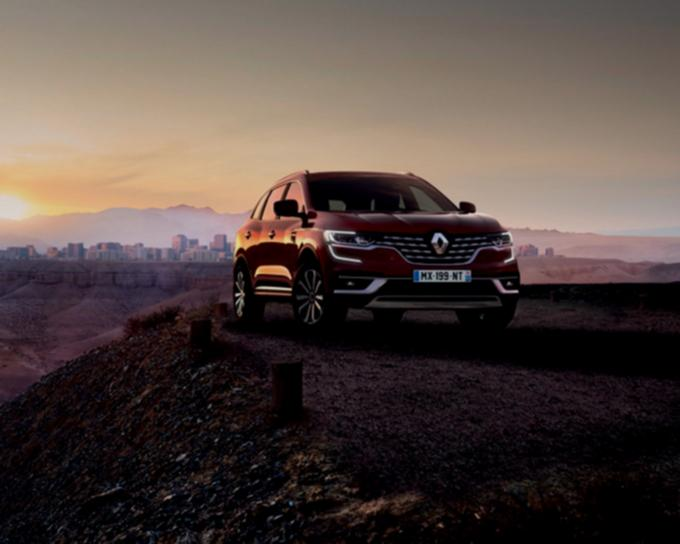Renault: (426, 228, 454, 264)
